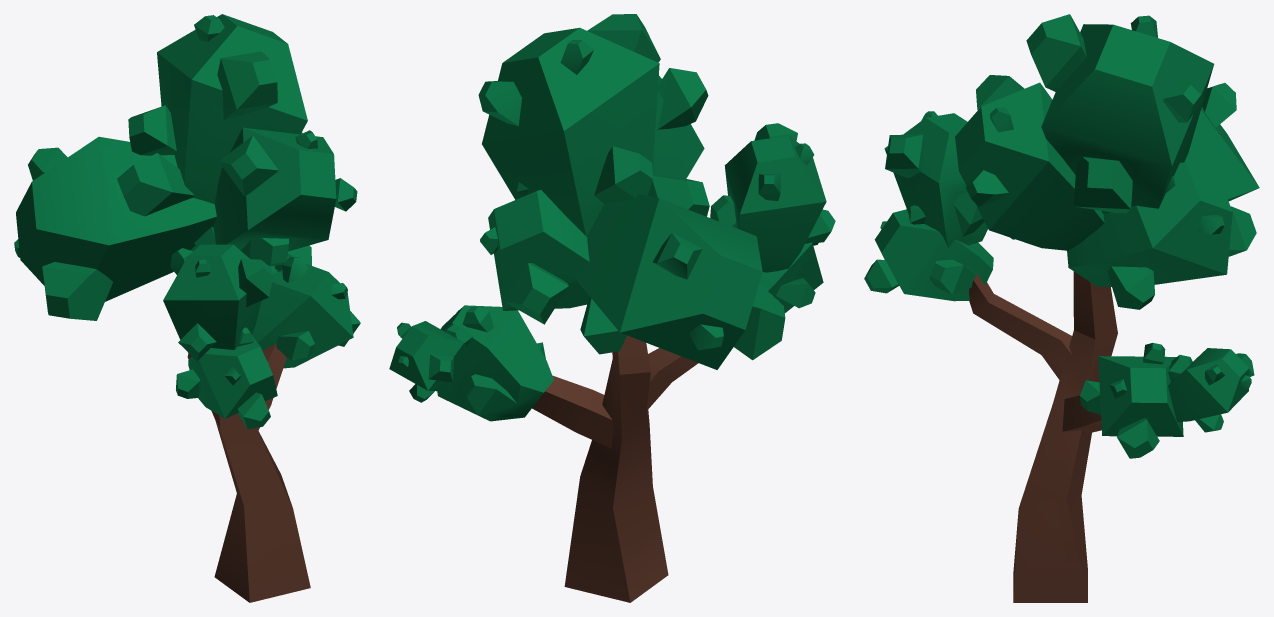
File: Arbol.obj
3 renders of one model, left to right at view 1: azimuth 30°, elevation 25°; view 2: azimuth 150°, elevation 25°; view 3: azimuth 270°, elevation 25°, orthographic. The views are drawn at different scales.
Visible parts, largest first — view 1: Arbol1:pasted__tree_obj_Meshgroup35group28 group; view 2: Arbol1:pasted__tree_obj_Meshgroup35group28 group; view 3: Arbol1:pasted__tree_obj_Meshgroup35group28 group.
Part boxes in pixels (x1,y1,x2,y2): Arbol1:pasted__tree_obj_Meshgroup35group28 group: (14, 14, 360, 602); Arbol1:pasted__tree_obj_Meshgroup35group28 group: (389, 14, 835, 602); Arbol1:pasted__tree_obj_Meshgroup35group28 group: (864, 14, 1259, 602).
Bounding box in the file's own units: 11.48 × 18.14 × 11.49.
2 materials, 2 textured.
